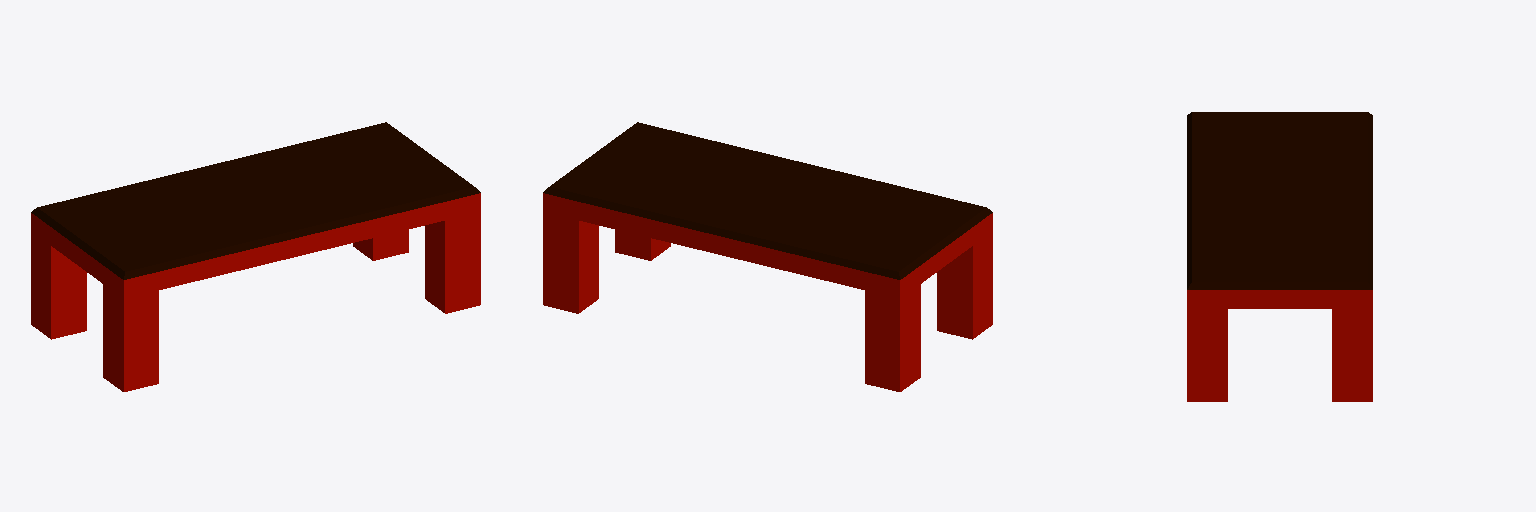
The model's file is table.obj.
The picture shows the model from 3 angles: view 1: azimuth 30°, elevation 25°; view 2: azimuth 150°, elevation 25°; view 3: azimuth 270°, elevation 25°; orthographic projection.
Visible parts, largest first — view 1: Cube; view 2: Cube; view 3: Cube.
Boxes of the visible parts, box(x1,y1,x2,y2) form: Cube: box(31, 122, 480, 391); Cube: box(543, 122, 992, 391); Cube: box(1187, 112, 1372, 401).
Size of the model in its own units: 20 by 6.3 by 9.